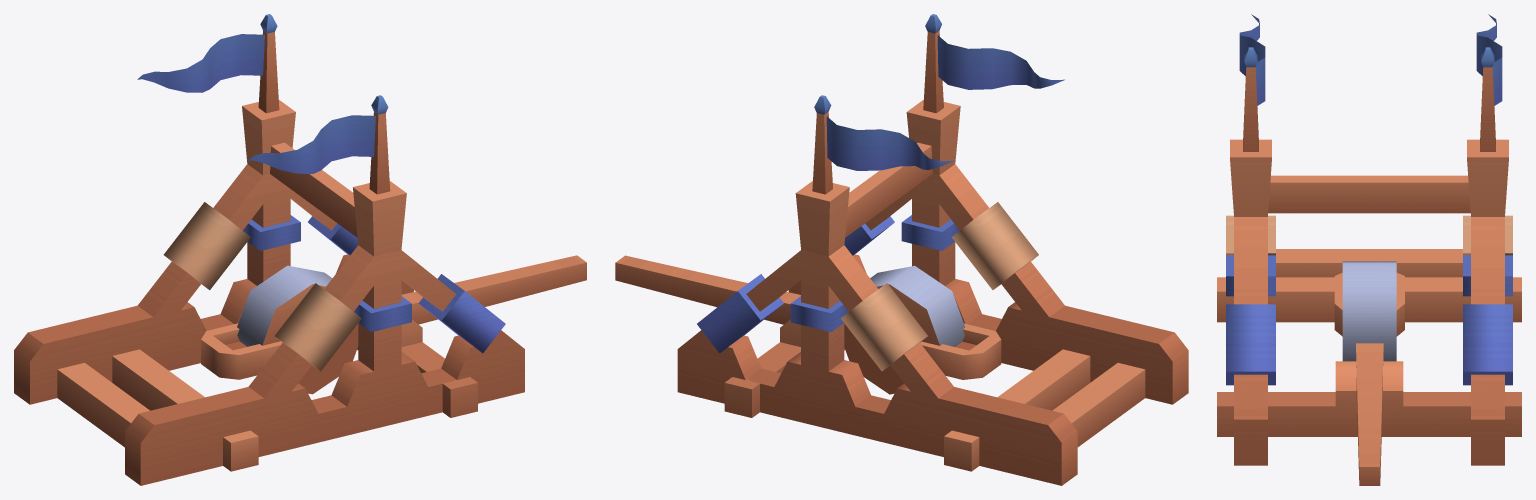
File: siege-catapult.glb
3 renders of one model, left to right at view 1: azimuth 30°, elevation 25°; view 2: azimuth 150°, elevation 25°; view 3: azimuth 270°, elevation 25°, orthographic. The views are drawn at different scales.
Parts seen in each view (by area): view 1: siege-catapult, siege-catapult.001, siege-catapult.002, siege-catapult.005; view 2: siege-catapult, siege-catapult.001, siege-catapult.005, siege-catapult.002, siege-catapult.004; view 3: siege-catapult, siege-catapult.001, siege-catapult.004, siege-catapult.003.
Boxes of the visible parts, left/top/right/bottom form: siege-catapult: left=14, top=14, right=524, bottom=485; siege-catapult.001: left=201, top=255, right=586, bottom=379; siege-catapult.002: left=240, top=269, right=358, bottom=393; siege-catapult.005: left=237, top=265, right=319, bottom=342; siege-catapult: left=677, top=14, right=1188, bottom=485; siege-catapult.001: left=615, top=255, right=1001, bottom=379; siege-catapult.005: left=844, top=269, right=945, bottom=394; siege-catapult.002: left=895, top=266, right=965, bottom=346; siege-catapult.004: left=870, top=271, right=931, bottom=309; siege-catapult: left=1217, top=14, right=1521, bottom=465; siege-catapult.001: left=1334, top=272, right=1404, bottom=485; siege-catapult.004: left=1353, top=261, right=1396, bottom=361; siege-catapult.003: left=1342, top=263, right=1353, bottom=361.
Size of the model in its own units: 9.64 by 5.9 by 4.72.
1 material, 1 textured.
